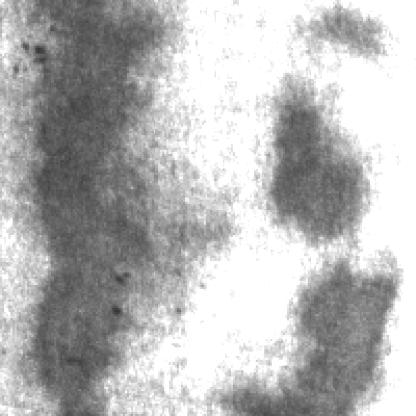patches: (29, 0, 158, 404), (244, 252, 400, 410), (276, 82, 375, 245), (316, 0, 400, 56)
